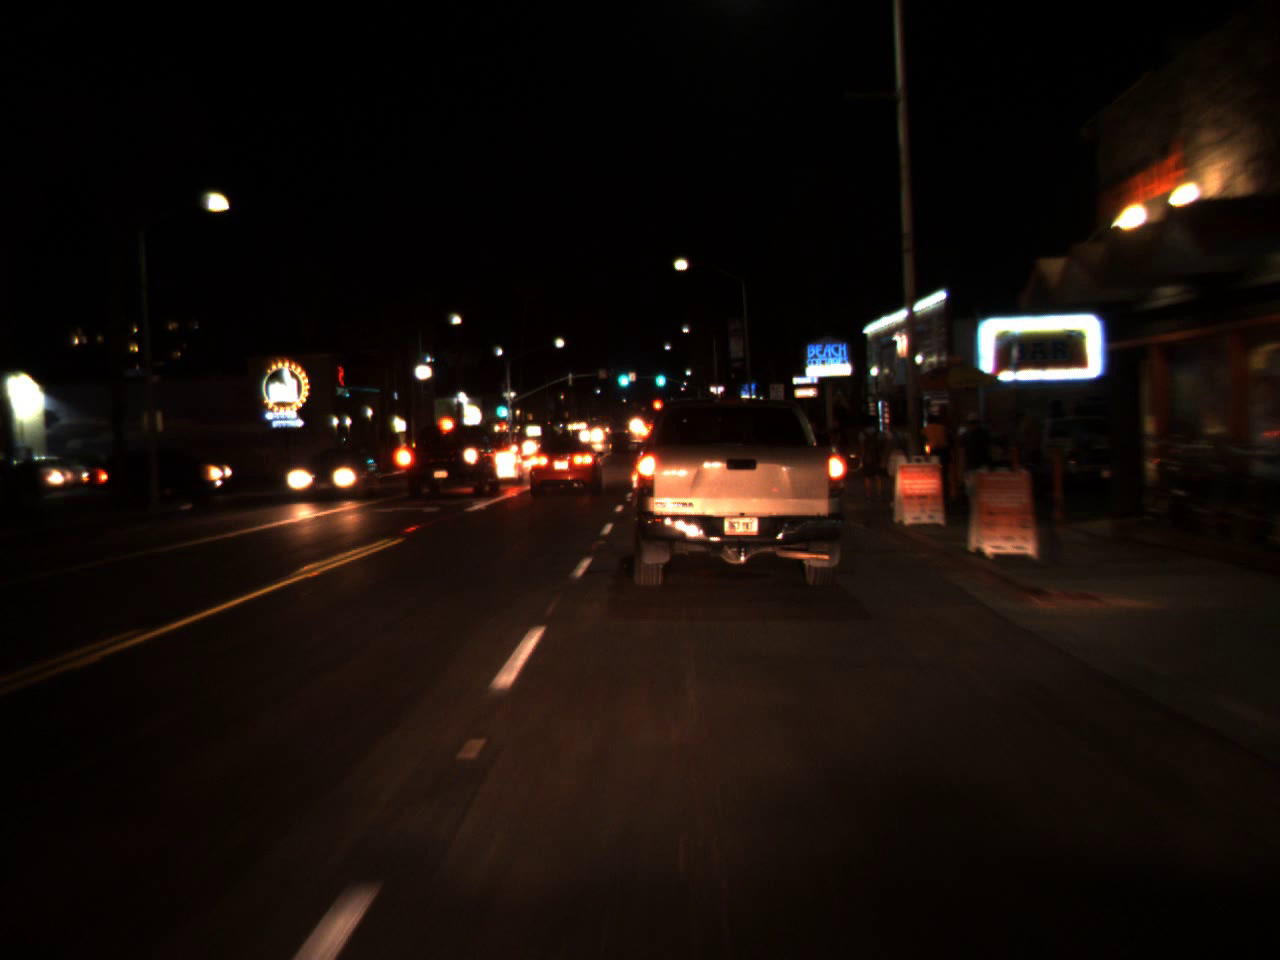go: (613, 361, 632, 391), (651, 361, 667, 391), (492, 392, 508, 422)
